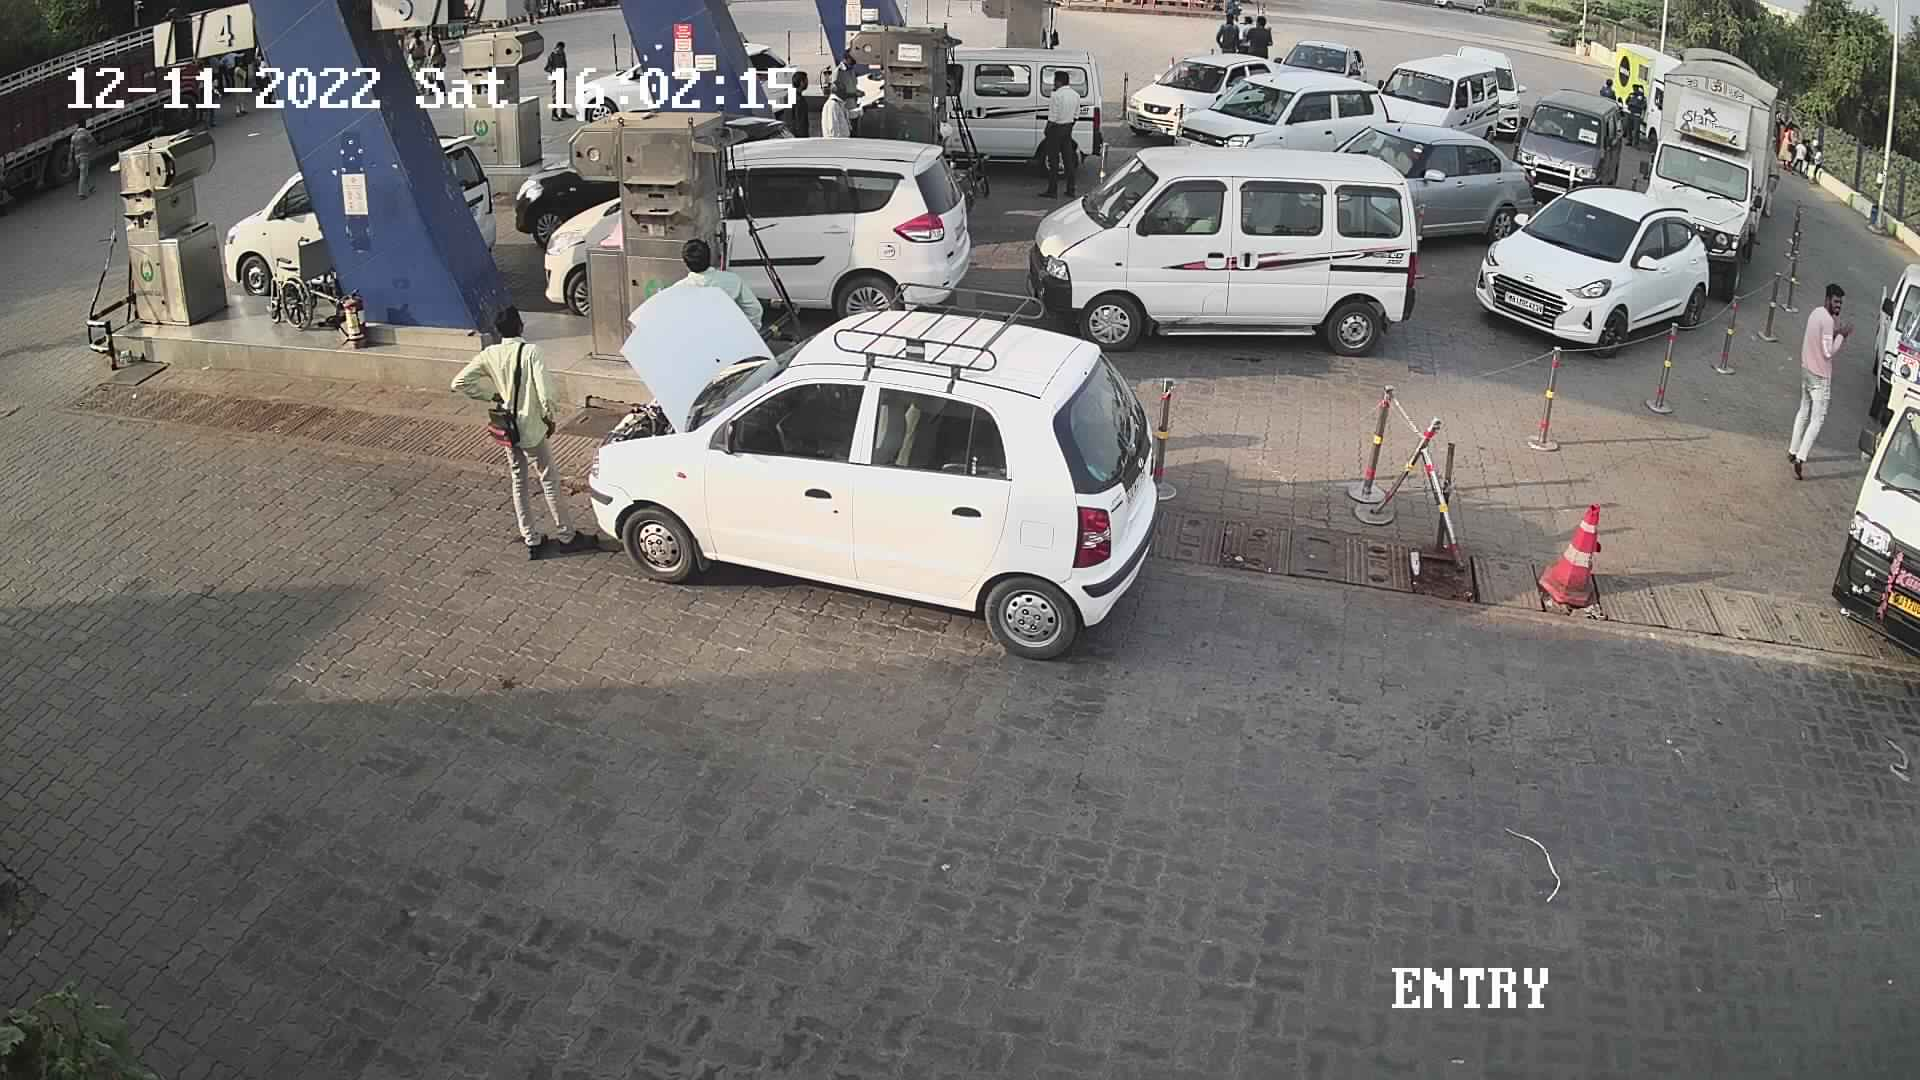Car: (574, 295, 1167, 665), (1030, 144, 1436, 363), (655, 123, 986, 334), (222, 103, 518, 332), (1461, 171, 1731, 361), (1308, 108, 1544, 253), (911, 25, 1118, 182), (1829, 338, 1920, 691), (1154, 53, 1396, 185), (1124, 45, 1279, 144), (1510, 78, 1631, 200), (1364, 51, 1506, 146), (1861, 235, 1920, 454), (1600, 38, 1683, 164), (1444, 38, 1531, 144), (1266, 26, 1366, 84)
HMV: (1, 1, 204, 229), (1635, 44, 1787, 311)
